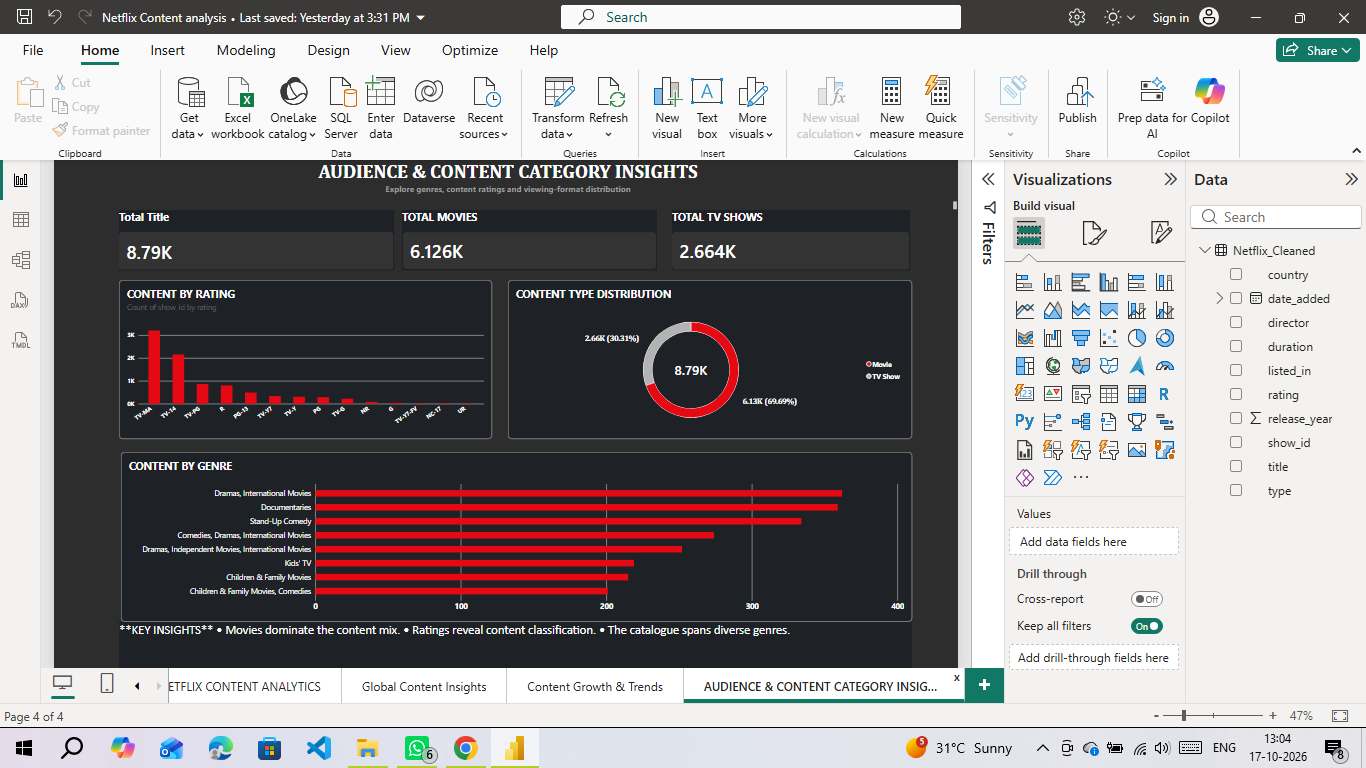

What the dashboard file says about the page in this screenshot:
{"tool":"powerbi","page":{"name":"AUDIENCE & CONTENT CATEGORY INSIGHTS","canvas":[1920,1080],"ordinal":3},"visuals":[{"type":"textbox","title":"AUDIENCE & CONTENT CATEGORY INSIGHTS","box":[10.6,0,1909.1,106.3],"z":0},{"type":"cardVisual","title":"Total Title","fields":{"Data":["Count(Netflix_Cleaned.show_id)"]},"box":[138.2,106.3,584.6,127.6],"z":1000},{"type":"cardVisual","title":"TOTAL MOVIES","fields":{"Data":["Count(Netflix_Cleaned.show_id)"]},"box":[739.8,106.3,542.1,127.6],"z":2000},{"type":"cardVisual","title":"TOTAL TV SHOWS","fields":{"Data":["Count(Netflix_Cleaned.show_id)"]},"box":[1313.9,106.3,506,127.6],"z":3000},{"type":"clusteredBarChart","title":"CONTENT BY GENRE","fields":{"Category":["Netflix_Cleaned.listed_in"],"Y":["Count(Netflix_Cleaned.show_id)"]},"box":[142.4,620.8,1681.7,361.4],"z":4000},{"type":"clusteredColumnChart","title":"CONTENT BY RATING","fields":{"Category":["Netflix_Cleaned.rating"],"Y":["Count(Netflix_Cleaned.show_id)"]},"box":[138.2,255.1,793,338],"z":5000},{"type":"donutChart","title":"CONTENT TYPE DISTRIBUTION","fields":{"Category":["Netflix_Cleaned.type"],"Y":["Count(Netflix_Cleaned.show_id)"]},"box":[965.2,255.1,858.9,338],"z":6000},{"type":"textbox","title":"KEY INSIGHTS  • Movies dominate the content mix. • Ratings reveal content classification. • The catalogue spans diverse genres.","box":[138.2,982.2,1685.9,97.8],"z":7000}]}

Visuals, with their boxes on the page's 1920x1080 design canvas (x1, y1, x2, y2). These are canvas units, not pixel positions in the 1366x768 screenshot, which may show the page scaled, cropped or inside an application window:
"AUDIENCE & CONTENT CATEGORY INSIGHTS" textbox: 11 0 1920 106
"Total Title" cardVisual: 138 106 723 234
"TOTAL MOVIES" cardVisual: 740 106 1282 234
"TOTAL TV SHOWS" cardVisual: 1314 106 1820 234
"CONTENT BY GENRE" clusteredBarChart: 142 621 1824 982
"CONTENT BY RATING" clusteredColumnChart: 138 255 931 593
"CONTENT TYPE DISTRIBUTION" donutChart: 965 255 1824 593
"KEY INSIGHTS  • Movies dominate the content mix. • Ratings reveal content classification. • The catalogue spans diverse genres." textbox: 138 982 1824 1080
